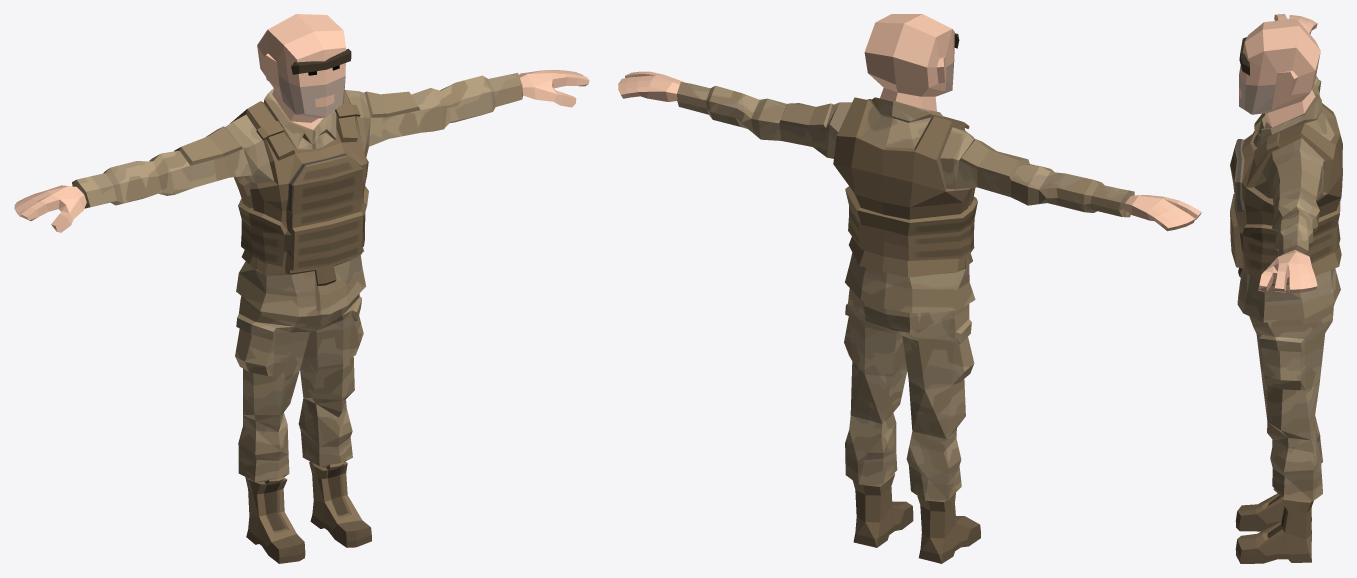
The model's file is SM_Chr_Soldier_Male_02.fbx.
3 renders of one model, left to right at view 1: azimuth 30°, elevation 25°; view 2: azimuth 150°, elevation 25°; view 3: azimuth 270°, elevation 25°, orthographic.
Parts seen in each view (by area): view 1: SM_Chr_Soldier_Male_02; view 2: SM_Chr_Soldier_Male_02; view 3: SM_Chr_Soldier_Male_02.
Boxes of the visible parts, x1,y1,x2,y2 form: SM_Chr_Soldier_Male_02: (14,14,589,563); SM_Chr_Soldier_Male_02: (618,14,1201,563); SM_Chr_Soldier_Male_02: (1230,14,1342,563).
Size of the model in its own units: 205 by 179 by 35.51.
